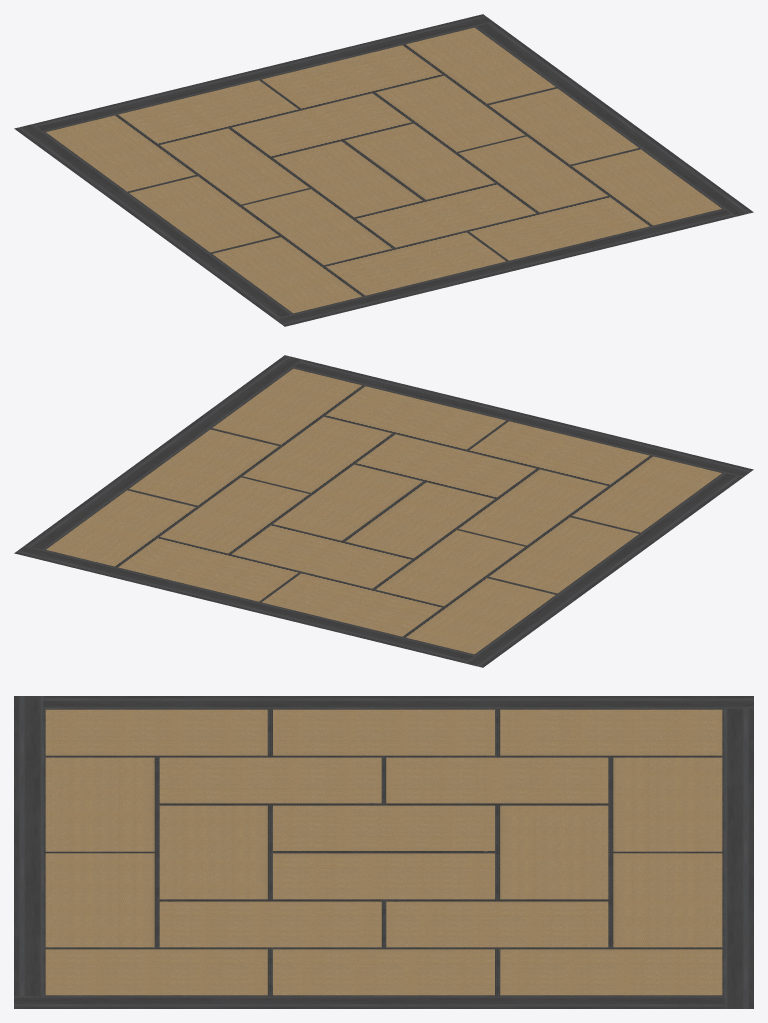
The model's file is Homeworld_Interior_Dq_Room_J_Floor_01_Vo.fbx.
3 renders of one model, top to bottom at view 1: azimuth 30°, elevation 25°; view 2: azimuth 150°, elevation 25°; view 3: azimuth 270°, elevation 25°, orthographic. The views are drawn at different scales.
Visible parts, largest first — view 1: Homeworld_Interior_Dq_Room_J_Floor_01_Vo; view 2: Homeworld_Interior_Dq_Room_J_Floor_01_Vo; view 3: Homeworld_Interior_Dq_Room_J_Floor_01_Vo.
Boxes of the visible parts, <box> form: Homeworld_Interior_Dq_Room_J_Floor_01_Vo: <box>14,14,753,326</box>; Homeworld_Interior_Dq_Room_J_Floor_01_Vo: <box>14,355,753,667</box>; Homeworld_Interior_Dq_Room_J_Floor_01_Vo: <box>14,696,753,1008</box>.
Size of the model in its own units: 10 by 0 by 10.
